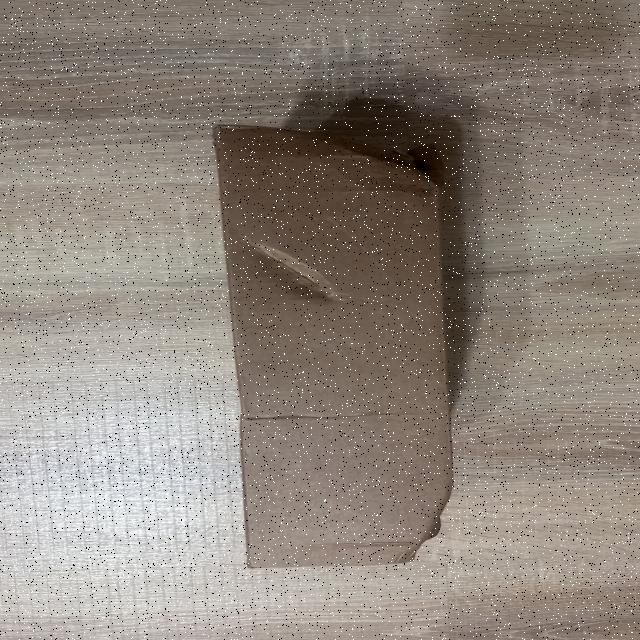damaged: (212, 132, 460, 574), (228, 233, 346, 316), (319, 127, 443, 197), (398, 475, 460, 570)
